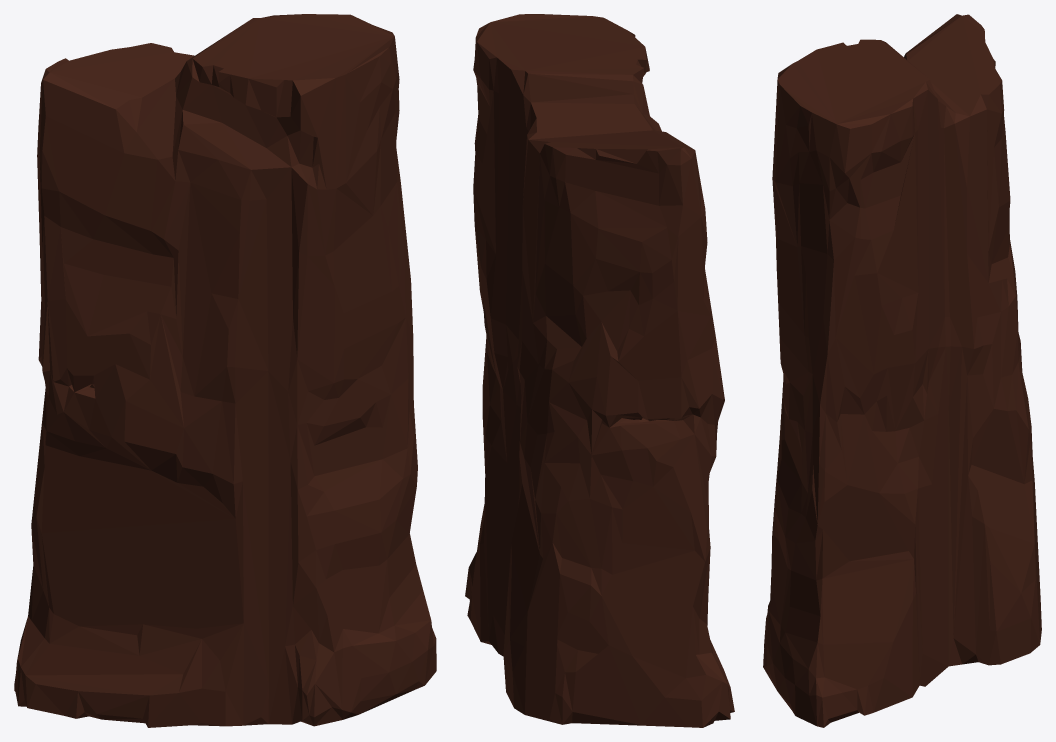
The model's file is sc_FeiTu_mesh_shan5.FBX.
3 views of the same model, side by side, from view 1: azimuth 30°, elevation 25°; view 2: azimuth 150°, elevation 25°; view 3: azimuth 270°, elevation 25° (orthographic). The views are drawn at different scales.
Visible parts, largest first — view 1: mesh_shan5; view 2: mesh_shan5; view 3: mesh_shan5.
Boxes of the visible parts, x1,y1,x2,y2 form: mesh_shan5: [14, 14, 436, 727]; mesh_shan5: [465, 14, 734, 727]; mesh_shan5: [763, 14, 1041, 727].
Bounding box in the file's own units: 1810 × 3132 × 1337.
